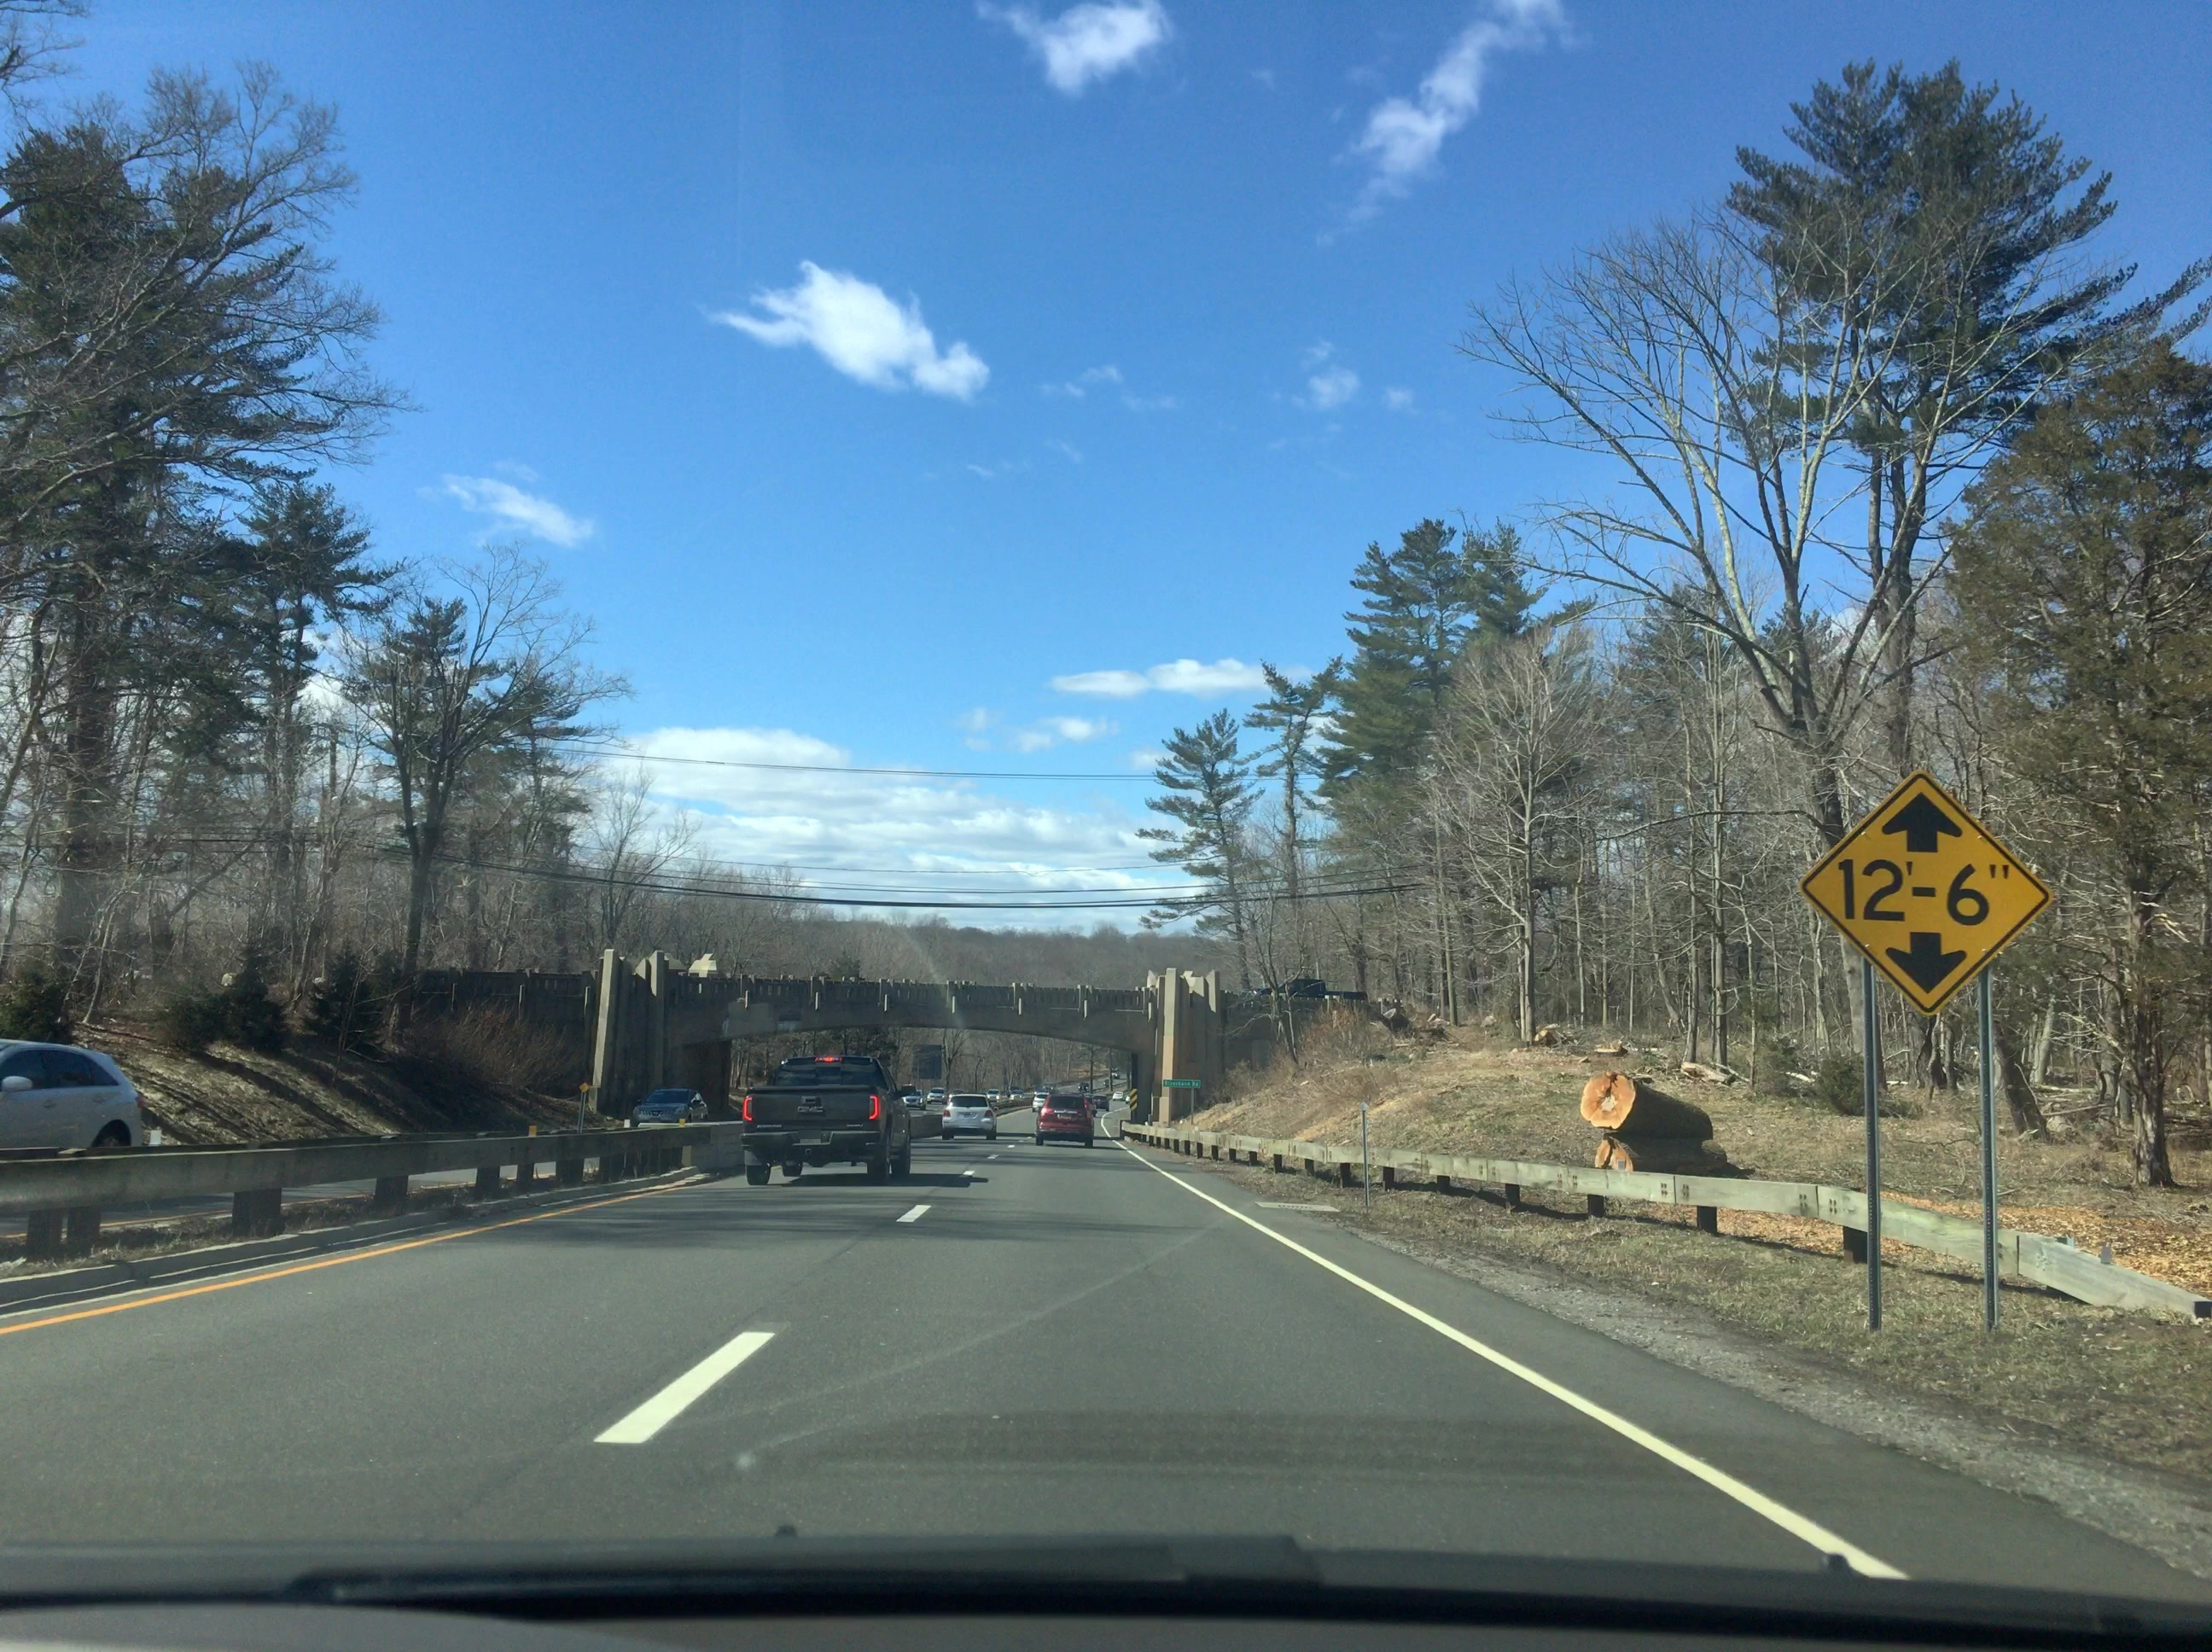low-clearance-sign: (1796, 769, 2054, 1017)
